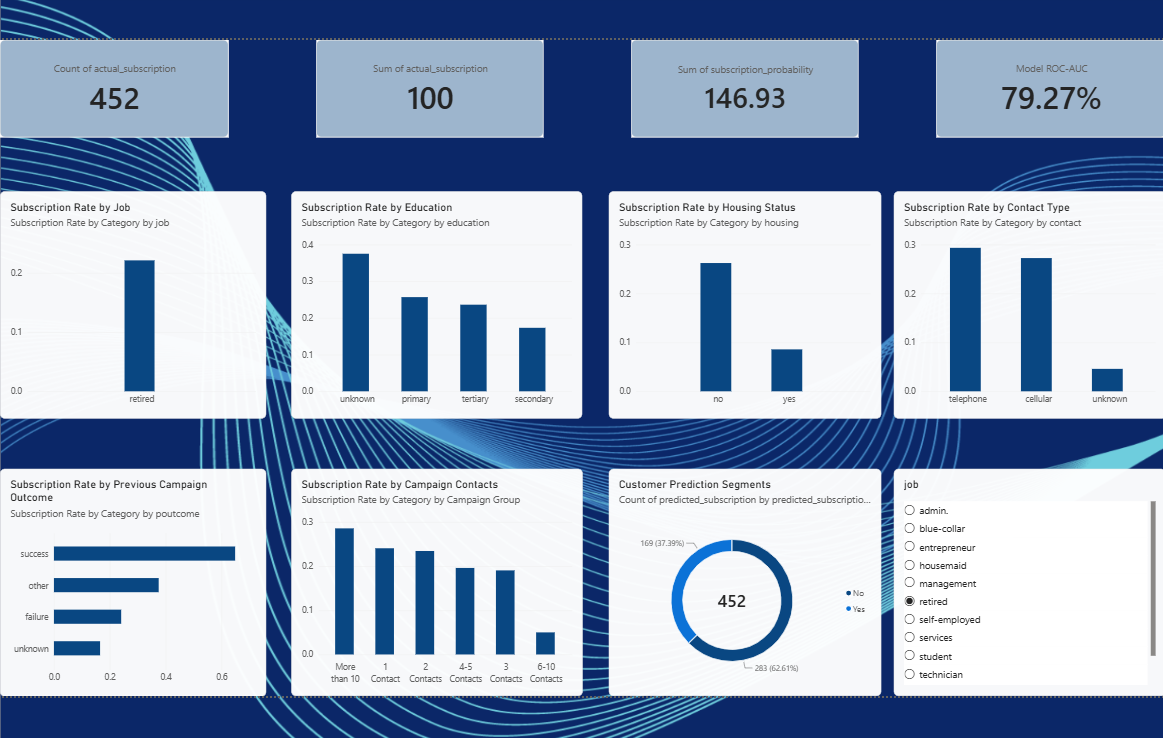

Layout of this report page (visuals, bound fields, positions):
{"tool":"powerbi","page":{"name":"ML Dashboard","canvas":[1920,1080],"ordinal":0},"visuals":[{"type":"cardVisual","fields":{"Data":["CountNonNull(bank_marketing_powerbi_predictions.actual_subscription)"]},"box":[0,0,376.7,160.5],"z":0},{"type":"cardVisual","fields":{"Data":["Sum(bank_marketing_powerbi_predictions.actual_subscription)"]},"box":[520.8,0,374.6,160.5],"z":1000},{"type":"cardVisual","fields":{"Data":["Sum(bank_marketing_powerbi_predictions.subscription_probability)"]},"box":[1039.5,0,374.6,160.5],"z":2000},{"type":"cardVisual","fields":{"Data":["bank_marketing_powerbi_predictions.Model ROC-AUC"]},"box":[1541.7,0,378.7,160.5],"z":3000},{"type":"clusteredColumnChart","title":"Subscription Rate by Job","fields":{"Category":["bank_marketing_powerbi_predictions.job"],"Y":["bank_marketing_powerbi_predictions.Subscription Rate by Category"]},"box":[0,249.1,438.4,374.6],"z":4000},{"type":"clusteredColumnChart","title":"Subscription Rate by Education","fields":{"Category":["bank_marketing_powerbi_predictions.education"],"Y":["bank_marketing_powerbi_predictions.Subscription Rate by Category"]},"box":[479.6,249.1,479.6,374.6],"z":5000},{"type":"clusteredColumnChart","title":"Subscription Rate by Housing Status","fields":{"Category":["bank_marketing_powerbi_predictions.housing"],"Y":["bank_marketing_powerbi_predictions.Subscription Rate by Category"]},"box":[1002.4,249.1,448.7,374.6],"z":5001},{"type":"clusteredColumnChart","title":"Subscription Rate by Contact Type","fields":{"Category":["bank_marketing_powerbi_predictions.contact"],"Y":["bank_marketing_powerbi_predictions.Subscription Rate by Category"]},"box":[1471.7,249.1,448.7,374.6],"z":5002},{"type":"clusteredBarChart","title":"Subscription Rate by Previous Campaign Outcome","fields":{"Category":["bank_marketing_powerbi_predictions.poutcome"],"Y":["bank_marketing_powerbi_predictions.Subscription Rate by Category"]},"box":[0,706,438,375],"z":5003},{"type":"lineClusteredColumnComboChart","title":"Subscription Rate by Campaign Contacts","fields":{"Category":["bank_marketing_powerbi_predictions.Campaign Group"],"Y":["bank_marketing_powerbi_predictions.Subscription Rate by Category"]},"box":[480,706,480,374],"z":5004},{"type":"donutChart","title":"Customer Prediction Segments","fields":{"Category":["bank_marketing_powerbi_predictions.predicted_subscription_label"],"Y":["CountNonNull(bank_marketing_powerbi_predictions.predicted_subscription)"]},"box":[1002,706,449,374],"z":5005},{"type":"listSlicer","fields":{"Values":["bank_marketing_powerbi_predictions.job"]},"box":[1472,706,448,374],"z":5006}]}

Visuals, with their boxes in screenshot pixels (x1, y1, x2, y2):
cardVisual - CountNonNull(bank_marketing_powerbi_predictions.actual_subscription): [0, 30, 221, 130]
cardVisual - Sum(bank_marketing_powerbi_predictions.actual_subscription): [310, 30, 542, 130]
cardVisual - Sum(bank_marketing_powerbi_predictions.subscription_probability): [632, 30, 864, 130]
cardVisual - bank_marketing_powerbi_predictions.Model ROC-AUC: [943, 30, 1162, 130]
"Subscription Rate by Job" clusteredColumnChart: [0, 185, 259, 417]
"Subscription Rate by Education" clusteredColumnChart: [285, 185, 582, 417]
"Subscription Rate by Housing Status" clusteredColumnChart: [609, 185, 887, 417]
"Subscription Rate by Contact Type" clusteredColumnChart: [899, 185, 1162, 417]
"Subscription Rate by Previous Campaign Outcome" clusteredBarChart: [0, 468, 259, 700]
"Subscription Rate by Campaign Contacts" lineClusteredColumnComboChart: [285, 468, 582, 699]
"Customer Prediction Segments" donutChart: [608, 468, 887, 699]
listSlicer - bank_marketing_powerbi_predictions.job: [900, 468, 1162, 699]
